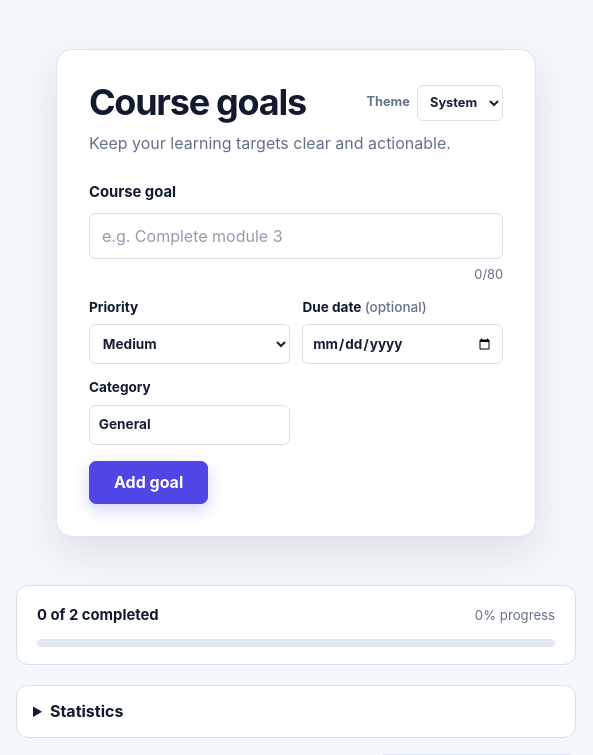
Scenario: Course Goals › shows an overdue indicator for past due dates
Type "2020-01-01" into the date field labelled "Due date (optional)" at x=403, y=344, box [302, 324, 503, 364]
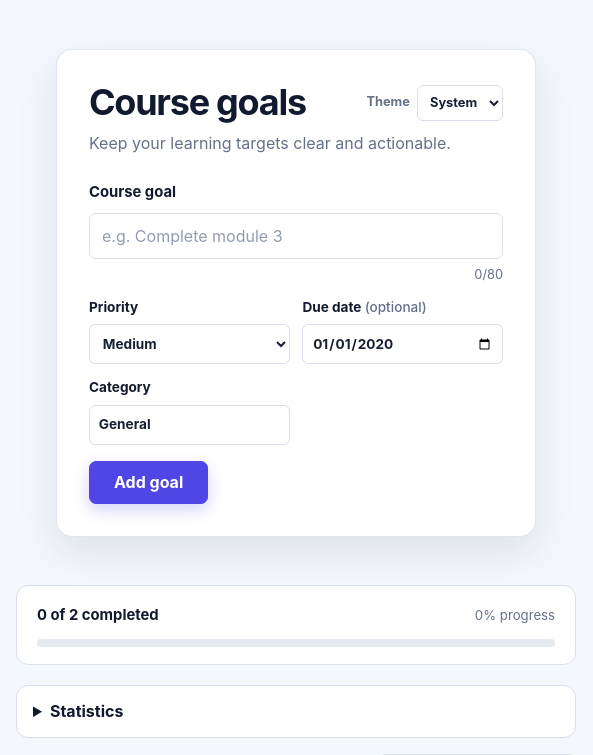
Type "Review overdue lesson" into the field with placeholder "e.g. Complete module 3" at x=296, y=236, box [89, 213, 503, 260]
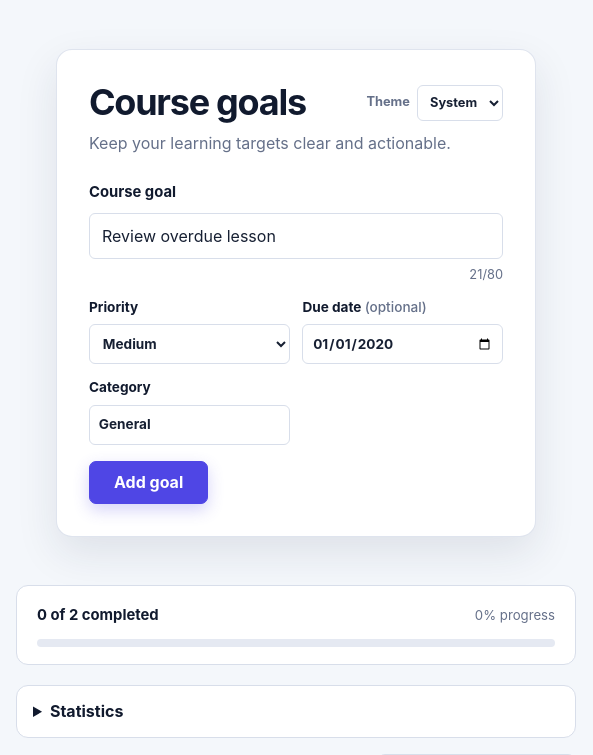
Click the button "Add goal" at x=149, y=482, box [89, 460, 208, 504]
(page scrolled)
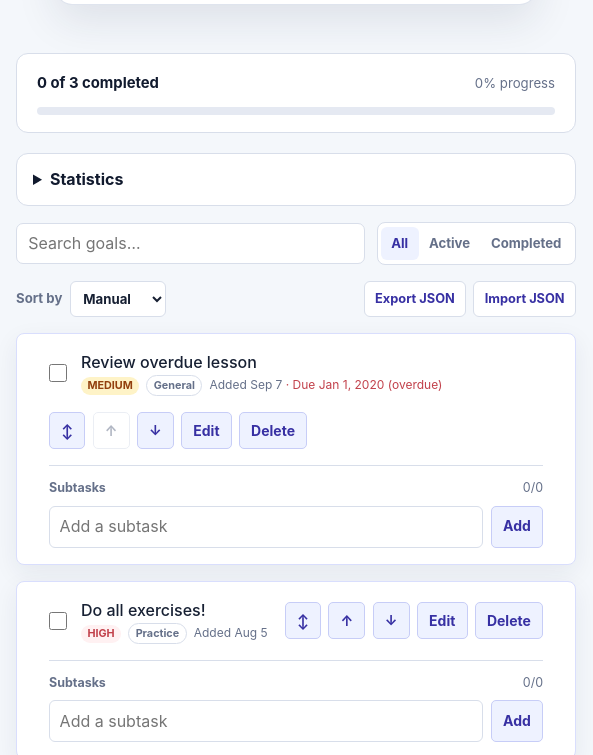
Check: the text "· Due Jan 1, 2020 (overdue)" is shown, box [282, 377, 442, 392]
